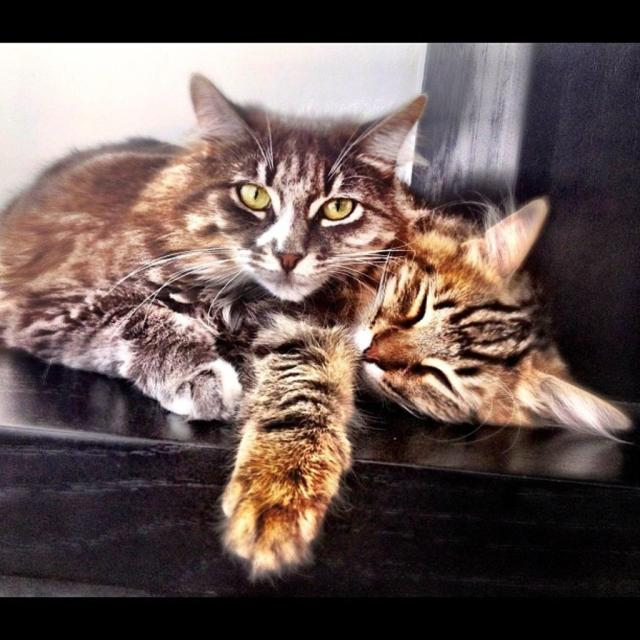Cat: (0, 74, 429, 586), (350, 178, 632, 454)
